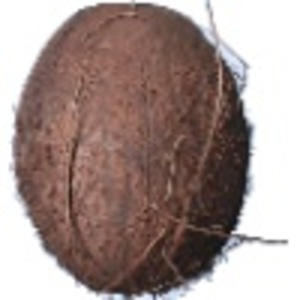coco: (12, 1, 278, 300)
